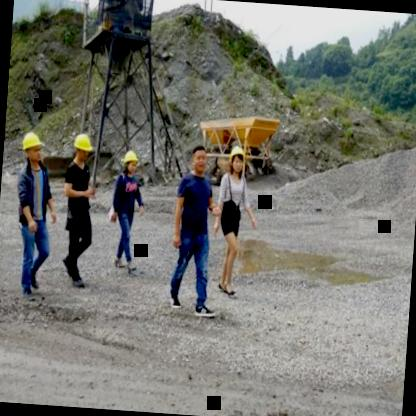head: (186, 140, 210, 176)
helmet: (19, 130, 45, 168), (72, 130, 94, 166), (122, 146, 141, 178), (229, 143, 247, 176)
